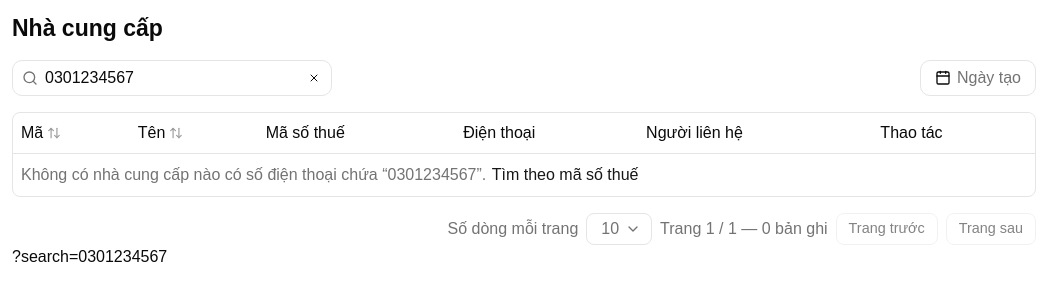
it: SuppliersPage — tìm (cờ supplierSearch bật) › 10 chữ số đoán là SĐT mà trống → nút "Tìm theo mã số thuế" gửi lại bằng taxCode (MST TP.HCM 03…)
Expected: the text "Không có nhà cung cấp nào có số điện thoại chứa “0301234567”" is shown, [21,166,486,182]
What coordinates should you click on to do the following:
click the button "Tìm theo mã số thuế"
I would click on:
 (565, 174)
Its box is [491,162,639,188].
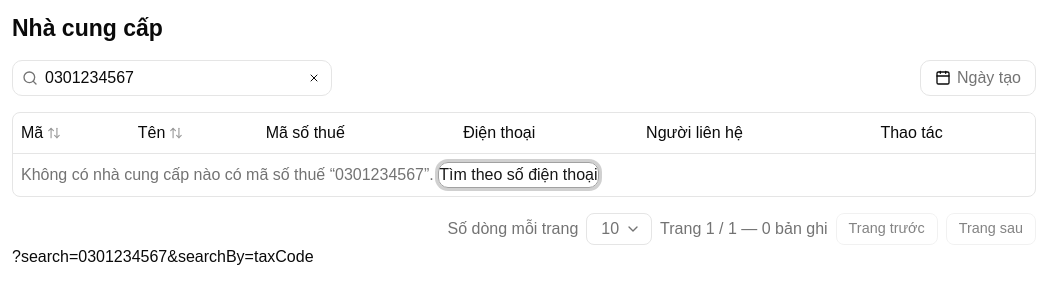
Result: the text with test id "location" shows "searchBy=taxCode" at [12,248,314,264]
Result: the button "Tìm theo số điện thoại" is shown at [438,162,598,188]
